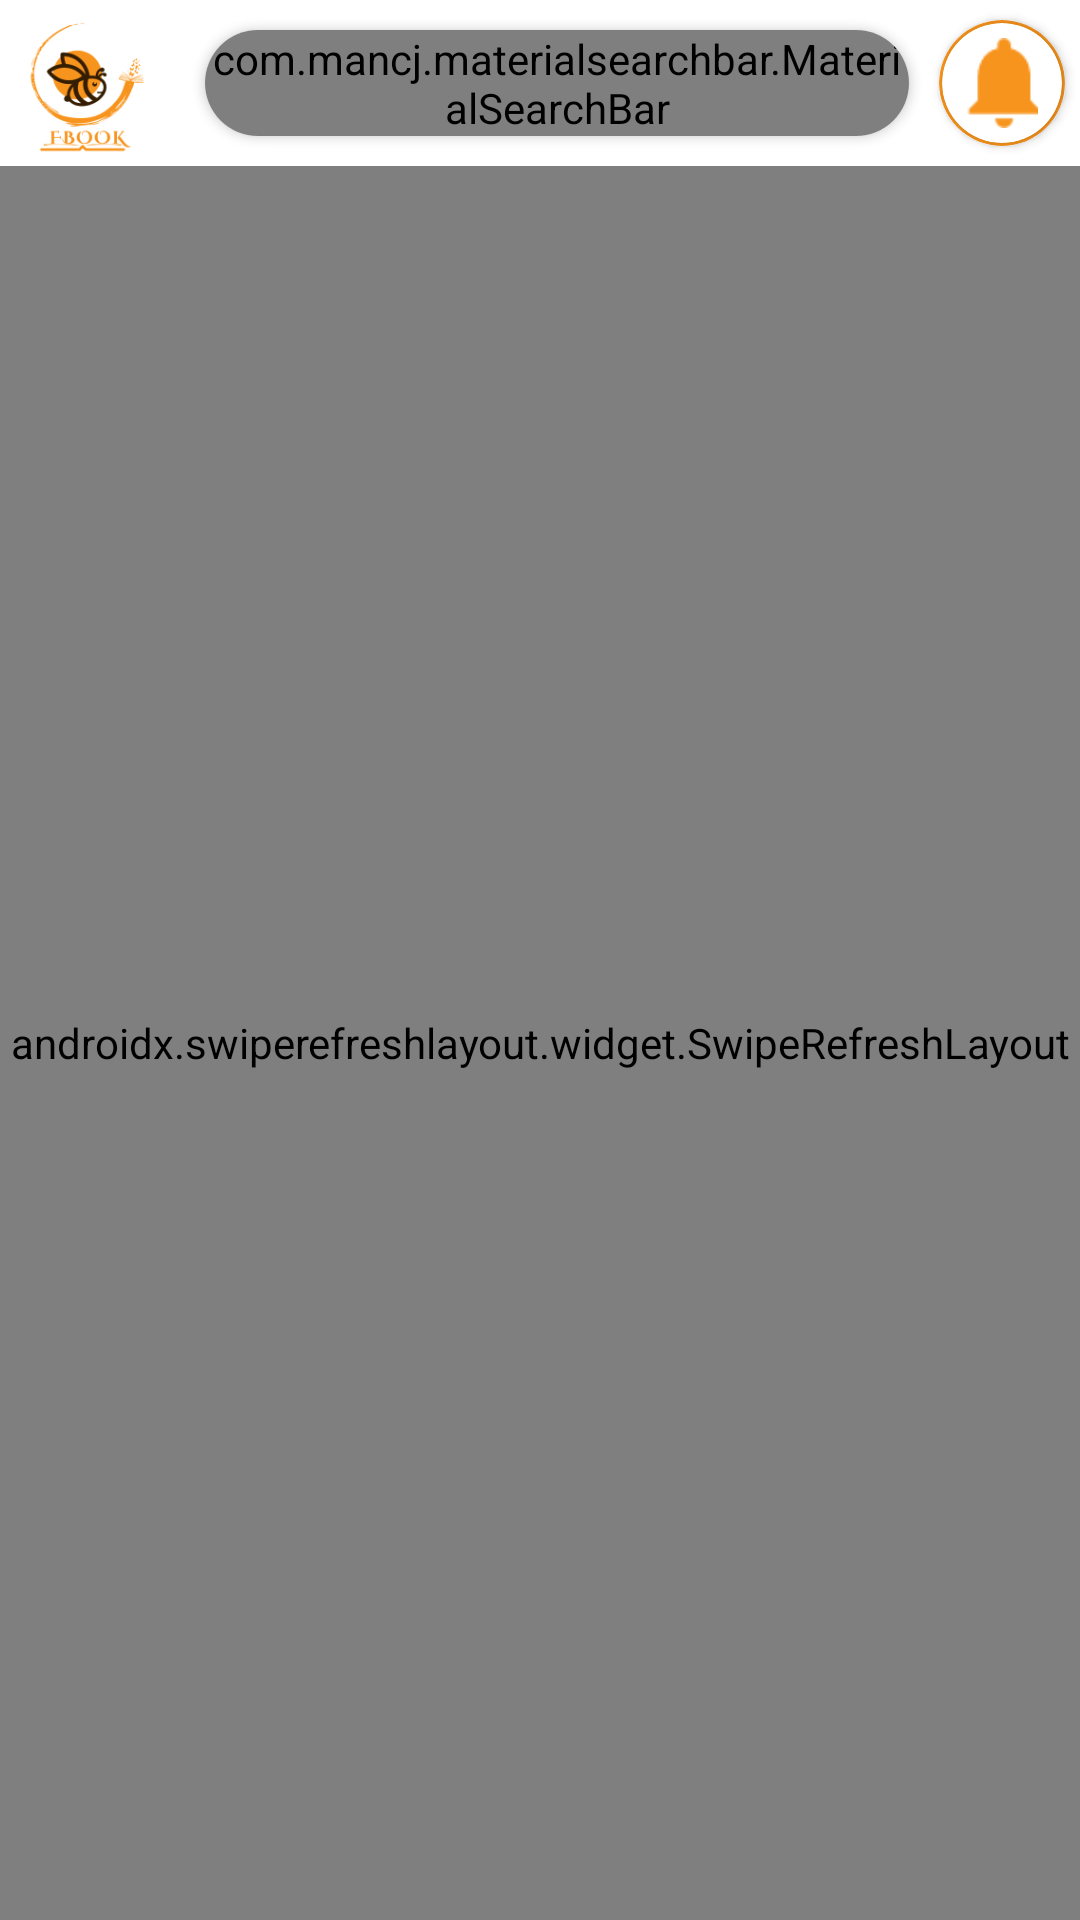

Screen size 1080 × 1920. Icon name, then its center in pixels as [x,y]:
notification: [1002,83]
